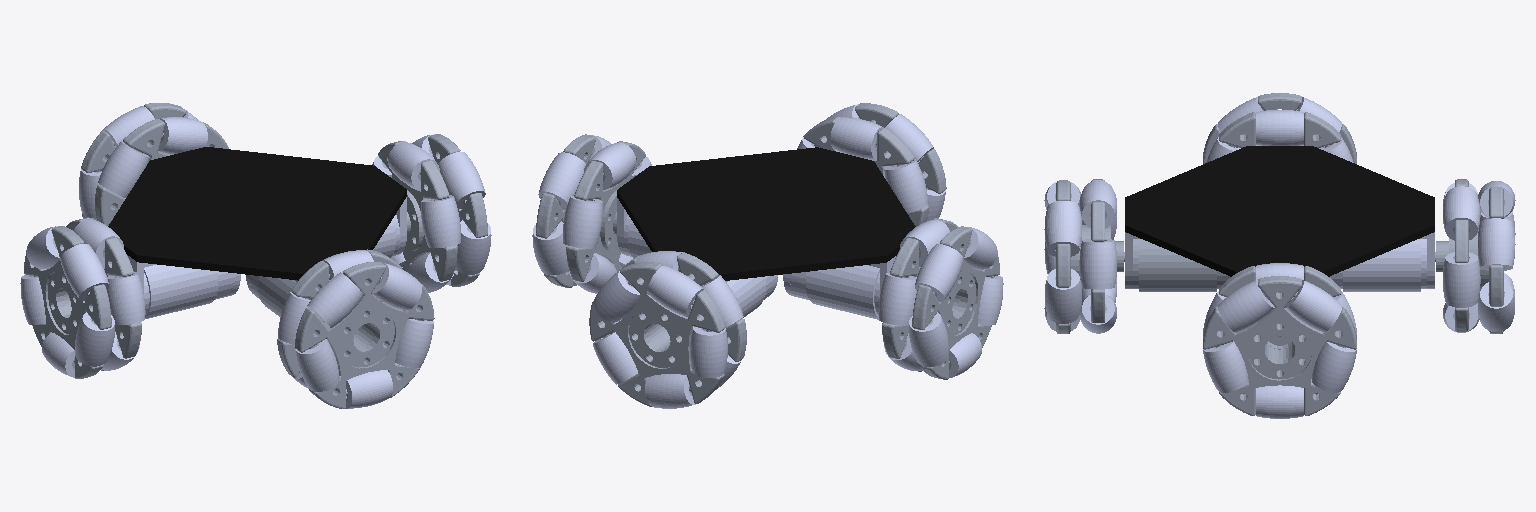
The robot description file, URDF, robot "holonomic_robot3":
<?xml version="1.0" encoding="utf-8"?>
<!-- This URDF was automatically created by SolidWorks to URDF Exporter! Originally created by [author] ([email redacted]) 
     Commit Version: 1.6.0-1-g15f4949  Build Version: 1.6.7594.29634
     For more information, please see http://wiki.ros.org/sw_urdf_exporter -->
<robot
  name="holonomic_robot3">
  <link
    name="base_link">
    <inertial>
      <origin
        xyz="-0.065971 -0.034453 0.00052875"
        rpy="0 0 0" />
      <mass
        value="0.029663" />
      <inertia
        ixx="2.3758E-05"
        ixy="-3.5155E-21"
        ixz="-2.2616E-23"
        iyy="2.3758E-05"
        iyz="1.4972E-21"
        izz="4.7471E-05" />
    </inertial>
    <visual>
      <origin
        xyz="0 0 0"
        rpy="0 0 0" />
      <geometry>
        <mesh
          filename="package://holonomic_robot3/meshes/base_link.STL" />
      </geometry>
      <material
        name="">
        <color
          rgba="0.1098 0.1098 0.1098 1" />
      </material>
    </visual>
    <collision>
      <origin
        xyz="0 0 0"
        rpy="0 0 0" />
      <geometry>
        <mesh
          filename="package://holonomic_robot3/meshes/base_link.STL" />
      </geometry>
    </collision>
  </link>
  <link
    name="motor1_Link">
    <inertial>
      <origin
        xyz="0.0012149 8.9994E-06 -0.014697"
        rpy="0 0 0" />
      <mass
        value="0.027587" />
      <inertia
        ixx="2.5276E-06"
        ixy="5.6421E-10"
        ixz="-2.5995E-07"
        iyy="4.8805E-06"
        iyz="-3.1417E-09"
        izz="4.8985E-06" />
    </inertial>
    <visual>
      <origin
        xyz="0 0 0"
        rpy="0 0 0" />
      <geometry>
        <mesh
          filename="package://holonomic_robot3/meshes/motor1_Link.STL" />
      </geometry>
      <material
        name="">
        <color
          rgba="0.79216 0.81961 0.93333 1" />
      </material>
    </visual>
    <collision>
      <origin
        xyz="0 0 0"
        rpy="0 0 0" />
      <geometry>
        <mesh
          filename="package://holonomic_robot3/meshes/motor1_Link.STL" />
      </geometry>
    </collision>
  </link>
  <joint
    name="motor1_joint"
    type="fixed">
    <origin
      xyz="-0.10447 -0.034453 -0.00097125"
      rpy="0 0 0" />
    <parent
      link="base_link" />
    <child
      link="motor1_Link" />
    <axis
      xyz="0 0 0" />
  </joint>
  <link
    name="wheel1_Link">
    <inertial>
      <origin
        xyz="-3.0531E-16 1.7347E-17 0.0059184"
        rpy="0 0 0" />
      <mass
        value="0.020334" />
      <inertia
        ixx="3.0819E-06"
        ixy="8.6757E-22"
        ixz="9.2629E-21"
        iyy="3.0819E-06"
        iyz="1.9171E-22"
        izz="5.7754E-06" />
    </inertial>
    <visual>
      <origin
        xyz="0 0 0"
        rpy="0 0 0" />
      <geometry>
        <mesh
          filename="package://holonomic_robot3/meshes/wheel1_Link.STL" />
      </geometry>
      <material
        name="">
        <color
          rgba="0.66667 0.69804 0.76863 1" />
      </material>
    </visual>
    <collision>
      <origin
        xyz="0 0 0"
        rpy="0 0 0" />
      <geometry>
        <mesh
          filename="package://holonomic_robot3/meshes/wheel1_Link.STL" />
      </geometry>
    </collision>
  </link>
  <joint
    name="wheel1_joint"
    type="continuous">
    <origin
      xyz="-0.0305 0 -0.0165"
      rpy="-1.5708 0 1.5708" />
    <parent
      link="motor1_Link" />
    <child
      link="wheel1_Link" />
    <axis
      xyz="0 0 1" />
  </joint>
  <link
    name="rubber1_Link">
    <inertial>
      <origin
        xyz="-2.9837E-16 5.8981E-17 0.008"
        rpy="0 0 0" />
      <mass
        value="0.025624" />
      <inertia
        ixx="8.1584E-07"
        ixy="2.7512E-21"
        ixz="3.9264E-22"
        iyy="8.1584E-07"
        iyz="6.7285E-24"
        izz="9.417E-07" />
    </inertial>
    <visual>
      <origin
        xyz="0 0 0"
        rpy="0 0 0" />
      <geometry>
        <mesh
          filename="package://holonomic_robot3/meshes/rubber1_Link.STL" />
      </geometry>
      <material
        name="">
        <color
          rgba="0.79216 0.81961 0.93333 1" />
      </material>
    </visual>
    <collision>
      <origin
        xyz="0 0 0"
        rpy="0 0 0" />
      <geometry>
        <mesh
          filename="package://holonomic_robot3/meshes/rubber1_Link.STL" />
      </geometry>
    </collision>
  </link>
  <joint
    name="rubber1_joint"
    type="fixed">
    <origin
      xyz="0 0 0"
      rpy="0 0 0" />
    <parent
      link="wheel1_Link" />
    <child
      link="rubber1_Link" />
    <axis
      xyz="0 0 1" />
  </joint>
  <link
    name="motor2_Link">
    <inertial>
      <origin
        xyz="-0.0012149 -8.9994E-06 -0.014697"
        rpy="0 0 0" />
      <mass
        value="0.027587" />
      <inertia
        ixx="2.5276E-06"
        ixy="5.6421E-10"
        ixz="2.5995E-07"
        iyy="4.8805E-06"
        iyz="3.1417E-09"
        izz="4.8985E-06" />
    </inertial>
    <visual>
      <origin
        xyz="0 0 0"
        rpy="0 0 0" />
      <geometry>
        <mesh
          filename="package://holonomic_robot3/meshes/motor2_Link.STL" />
      </geometry>
      <material
        name="">
        <color
          rgba="0.79216 0.81961 0.93333 1" />
      </material>
    </visual>
    <collision>
      <origin
        xyz="0 0 0"
        rpy="0 0 0" />
      <geometry>
        <mesh
          filename="package://holonomic_robot3/meshes/motor2_Link.STL" />
      </geometry>
    </collision>
  </link>
  <joint
    name="motor2_joint"
    type="fixed">
    <origin
      xyz="-0.027471 -0.034453 -0.00097125"
      rpy="0 0 0" />
    <parent
      link="base_link" />
    <child
      link="motor2_Link" />
    <axis
      xyz="0 0 0" />
  </joint>
  <link
    name="wheel2_Link">
    <inertial>
      <origin
        xyz="8.3267E-17 1.0408E-17 0.0059184"
        rpy="0 0 0" />
      <mass
        value="0.020334" />
      <inertia
        ixx="3.0819E-06"
        ixy="1.4617E-22"
        ixz="-8.1538E-21"
        iyy="3.0819E-06"
        iyz="-1.6374E-22"
        izz="5.7754E-06" />
    </inertial>
    <visual>
      <origin
        xyz="0 0 0"
        rpy="0 0 0" />
      <geometry>
        <mesh
          filename="package://holonomic_robot3/meshes/wheel2_Link.STL" />
      </geometry>
      <material
        name="">
        <color
          rgba="0.66667 0.69804 0.76863 1" />
      </material>
    </visual>
    <collision>
      <origin
        xyz="0 0 0"
        rpy="0 0 0" />
      <geometry>
        <mesh
          filename="package://holonomic_robot3/meshes/wheel2_Link.STL" />
      </geometry>
    </collision>
  </link>
  <joint
    name="wheel2_joint"
    type="continuous">
    <origin
      xyz="0.0305 0 -0.0165"
      rpy="1.5708 0 1.5708" />
    <parent
      link="motor2_Link" />
    <child
      link="wheel2_Link" />
    <axis
      xyz="0 0 1" />
  </joint>
  <link
    name="rubber2_Link">
    <inertial>
      <origin
        xyz="2.0817E-17 -1.0408E-17 0.008"
        rpy="0 0 0" />
      <mass
        value="0.025624" />
      <inertia
        ixx="8.1584E-07"
        ixy="-1.8496E-21"
        ixz="-4.4163E-22"
        iyy="8.1584E-07"
        iyz="2.1291E-24"
        izz="9.417E-07" />
    </inertial>
    <visual>
      <origin
        xyz="0 0 0"
        rpy="0 0 0" />
      <geometry>
        <mesh
          filename="package://holonomic_robot3/meshes/rubber2_Link.STL" />
      </geometry>
      <material
        name="">
        <color
          rgba="0.79216 0.81961 0.93333 1" />
      </material>
    </visual>
    <collision>
      <origin
        xyz="0 0 0"
        rpy="0 0 0" />
      <geometry>
        <mesh
          filename="package://holonomic_robot3/meshes/rubber2_Link.STL" />
      </geometry>
    </collision>
  </link>
  <joint
    name="rubber2_joint"
    type="fixed">
    <origin
      xyz="0 0 0"
      rpy="0 0 0" />
    <parent
      link="wheel2_Link" />
    <child
      link="rubber2_Link" />
    <axis
      xyz="0 0 1" />
  </joint>
  <link
    name="motor3_Link">
    <inertial>
      <origin
        xyz="8.9994E-06 -0.0012149 -0.014697"
        rpy="0 0 0" />
      <mass
        value="0.027587" />
      <inertia
        ixx="4.8805E-06"
        ixy="-5.6421E-10"
        ixz="-3.1417E-09"
        iyy="2.5276E-06"
        iyz="2.5995E-07"
        izz="4.8985E-06" />
    </inertial>
    <visual>
      <origin
        xyz="0 0 0"
        rpy="0 0 0" />
      <geometry>
        <mesh
          filename="package://holonomic_robot3/meshes/motor3_Link.STL" />
      </geometry>
      <material
        name="">
        <color
          rgba="0.79216 0.81961 0.93333 1" />
      </material>
    </visual>
    <collision>
      <origin
        xyz="0 0 0"
        rpy="0 0 0" />
      <geometry>
        <mesh
          filename="package://holonomic_robot3/meshes/motor3_Link.STL" />
      </geometry>
    </collision>
  </link>
  <joint
    name="motor3_joint"
    type="fixed">
    <origin
      xyz="-0.065971 0.0040471 -0.00097125"
      rpy="0 0 0" />
    <parent
      link="base_link" />
    <child
      link="motor3_Link" />
    <axis
      xyz="0 0 0" />
  </joint>
  <link
    name="wheel3_Link">
    <inertial>
      <origin
        xyz="-3.3307E-16 -1.36E-15 0.0059184"
        rpy="0 0 0" />
      <mass
        value="0.020334" />
      <inertia
        ixx="3.0819E-06"
        ixy="8.2017E-13"
        ixz="-6.1659E-21"
        iyy="3.0819E-06"
        iyz="8.252E-21"
        izz="5.7754E-06" />
    </inertial>
    <visual>
      <origin
        xyz="0 0 0"
        rpy="0 0 0" />
      <geometry>
        <mesh
          filename="package://holonomic_robot3/meshes/wheel3_Link.STL" />
      </geometry>
      <material
        name="">
        <color
          rgba="0.66667 0.69804 0.76863 1" />
      </material>
    </visual>
    <collision>
      <origin
        xyz="0 0 0"
        rpy="0 0 0" />
      <geometry>
        <mesh
          filename="package://holonomic_robot3/meshes/wheel3_Link.STL" />
      </geometry>
    </collision>
  </link>
  <joint
    name="wheel3_joint"
    type="continuous">
    <origin
      xyz="0 0.0305 -0.0165"
      rpy="-1.5708 0 0" />
    <parent
      link="motor3_Link" />
    <child
      link="wheel3_Link" />
    <axis
      xyz="0 0 1" />
  </joint>
  <link
    name="rubber3_Link">
    <inertial>
      <origin
        xyz="-4.1633E-16 -1.3739E-15 0.008"
        rpy="0 0 0" />
      <mass
        value="0.025624" />
      <inertia
        ixx="8.1584E-07"
        ixy="8.5348E-21"
        ixz="-3.0657E-22"
        iyy="8.1584E-07"
        iyz="3.663E-22"
        izz="9.417E-07" />
    </inertial>
    <visual>
      <origin
        xyz="0 0 0"
        rpy="0 0 0" />
      <geometry>
        <mesh
          filename="package://holonomic_robot3/meshes/rubber3_Link.STL" />
      </geometry>
      <material
        name="">
        <color
          rgba="0.79216 0.81961 0.93333 1" />
      </material>
    </visual>
    <collision>
      <origin
        xyz="0 0 0"
        rpy="0 0 0" />
      <geometry>
        <mesh
          filename="package://holonomic_robot3/meshes/rubber3_Link.STL" />
      </geometry>
    </collision>
  </link>
  <joint
    name="rubber3_joint"
    type="fixed">
    <origin
      xyz="0 0 0"
      rpy="0 0 0" />
    <parent
      link="wheel3_Link" />
    <child
      link="rubber3_Link" />
    <axis
      xyz="0 0 1" />
  </joint>
  <link
    name="motor4_Link">
    <inertial>
      <origin
        xyz="-8.9994E-06 0.0012149 -0.014697"
        rpy="0 0 0" />
      <mass
        value="0.027587" />
      <inertia
        ixx="4.8805E-06"
        ixy="-5.6421E-10"
        ixz="3.1417E-09"
        iyy="2.5276E-06"
        iyz="-2.5995E-07"
        izz="4.8985E-06" />
    </inertial>
    <visual>
      <origin
        xyz="0 0 0"
        rpy="0 0 0" />
      <geometry>
        <mesh
          filename="package://holonomic_robot3/meshes/motor4_Link.STL" />
      </geometry>
      <material
        name="">
        <color
          rgba="0.66667 0.69804 0.76863 1" />
      </material>
    </visual>
    <collision>
      <origin
        xyz="0 0 0"
        rpy="0 0 0" />
      <geometry>
        <mesh
          filename="package://holonomic_robot3/meshes/motor4_Link.STL" />
      </geometry>
    </collision>
  </link>
  <joint
    name="motor4_joint"
    type="fixed">
    <origin
      xyz="-0.065971 -0.072953 -0.00097125"
      rpy="0 0 0" />
    <parent
      link="base_link" />
    <child
      link="motor4_Link" />
    <axis
      xyz="0 0 0" />
  </joint>
  <link
    name="wheel4_Link">
    <inertial>
      <origin
        xyz="6.5226E-16 -3.1225E-17 0.0059184"
        rpy="0 0 0" />
      <mass
        value="0.020334" />
      <inertia
        ixx="3.0819E-06"
        ixy="9.4476E-22"
        ixz="1.9557E-20"
        iyy="3.0819E-06"
        iyz="1.2749E-22"
        izz="5.7754E-06" />
    </inertial>
    <visual>
      <origin
        xyz="0 0 0"
        rpy="0 0 0" />
      <geometry>
        <mesh
          filename="package://holonomic_robot3/meshes/wheel4_Link.STL" />
      </geometry>
      <material
        name="">
        <color
          rgba="0.66667 0.69804 0.76863 1" />
      </material>
    </visual>
    <collision>
      <origin
        xyz="0 0 0"
        rpy="0 0 0" />
      <geometry>
        <mesh
          filename="package://holonomic_robot3/meshes/wheel4_Link.STL" />
      </geometry>
    </collision>
  </link>
  <joint
    name="wheel4_joint"
    type="continuous">
    <origin
      xyz="0 -0.0305 -0.0165"
      rpy="1.5708 0 0" />
    <parent
      link="motor4_Link" />
    <child
      link="wheel4_Link" />
    <axis
      xyz="0 0 1" />
  </joint>
  <link
    name="rubber4_Link">
    <inertial>
      <origin
        xyz="6.245E-16 -5.2042E-17 0.008"
        rpy="0 0 0" />
      <mass
        value="0.025624" />
      <inertia
        ixx="8.1584E-07"
        ixy="-1.0418E-20"
        ixz="1.3067E-21"
        iyy="8.1584E-07"
        iyz="-3.0399E-23"
        izz="9.417E-07" />
    </inertial>
    <visual>
      <origin
        xyz="0 0 0"
        rpy="0 0 0" />
      <geometry>
        <mesh
          filename="package://holonomic_robot3/meshes/rubber4_Link.STL" />
      </geometry>
      <material
        name="">
        <color
          rgba="0.79216 0.81961 0.93333 1" />
      </material>
    </visual>
    <collision>
      <origin
        xyz="0 0 0"
        rpy="0 0 0" />
      <geometry>
        <mesh
          filename="package://holonomic_robot3/meshes/rubber4_Link.STL" />
      </geometry>
    </collision>
  </link>
  <joint
    name="rubber4_joint"
    type="fixed">
    <origin
      xyz="0 0 0"
      rpy="0 0 0" />
    <parent
      link="wheel4_Link" />
    <child
      link="rubber4_Link" />
    <axis
      xyz="0 0 0" />
  </joint>
</robot>

--- What the picture shows (computed from the rendered views, not written in the file) ---
The picture shows the robot from 3 angles, left to right: view 1: azimuth 30°, elevation 25°; view 2: azimuth 150°, elevation 25°; view 3: azimuth 270°, elevation 25°; orthographic projection.
Model holonomic_robot3 with 13 links and 12 joints (4 continuous, 8 fixed), rooted at base_link, posed all joints at 0.
Visible links, largest first — view 1: base_link, wheel4_Link, rubber4_Link, rubber1_Link, rubber2_Link, wheel1_Link, wheel2_Link, rubber3_Link, motor1_Link, wheel3_Link, motor4_Link, motor2_Link; view 2: base_link, wheel3_Link, rubber3_Link, rubber1_Link, rubber2_Link, wheel1_Link, wheel2_Link, rubber4_Link, motor1_Link, wheel4_Link, motor3_Link, motor2_Link; view 3: base_link, wheel2_Link, rubber2_Link, rubber4_Link, rubber3_Link, motor3_Link, motor4_Link, rubber1_Link, wheel1_Link, wheel3_Link, wheel4_Link.
Boxes of the visible links, box(x1,y1,x2,y2) form: base_link: box(108, 147, 406, 280); wheel4_Link: box(277, 249, 434, 408); rubber4_Link: box(278, 250, 433, 408); rubber1_Link: box(20, 219, 145, 377); rubber2_Link: box(372, 134, 491, 292); wheel1_Link: box(24, 218, 141, 378); wheel2_Link: box(378, 134, 487, 286); rubber3_Link: box(79, 106, 207, 218); motor1_Link: box(127, 255, 240, 318); wheel3_Link: box(81, 103, 228, 225); motor4_Link: box(246, 275, 297, 317); motor2_Link: box(373, 197, 406, 257); base_link: box(617, 147, 915, 280); wheel3_Link: box(589, 252, 746, 406); rubber3_Link: box(593, 251, 743, 408); rubber1_Link: box(878, 220, 1003, 377); rubber2_Link: box(532, 135, 651, 293); wheel1_Link: box(882, 218, 999, 379); wheel2_Link: box(536, 134, 645, 287); rubber4_Link: box(797, 104, 945, 220); motor1_Link: box(783, 256, 895, 319); wheel4_Link: box(803, 103, 946, 226); motor3_Link: box(726, 275, 777, 317); motor2_Link: box(617, 198, 651, 258); base_link: box(1125, 146, 1434, 276); wheel2_Link: box(1203, 266, 1356, 415); rubber2_Link: box(1203, 263, 1356, 418); rubber4_Link: box(1044, 180, 1116, 333); rubber3_Link: box(1443, 181, 1515, 332); motor3_Link: box(1329, 232, 1434, 291); motor4_Link: box(1125, 232, 1230, 291); rubber1_Link: box(1206, 97, 1353, 162); wheel1_Link: box(1203, 93, 1356, 163); wheel3_Link: box(1435, 179, 1504, 333); wheel4_Link: box(1055, 179, 1124, 333).
Bounding box of the posed robot: 0.1822 × 0.1822 × 0.06 m (x, y, z).
13 mesh visuals loaded from 13 distinct referenced files (13 binary STL).